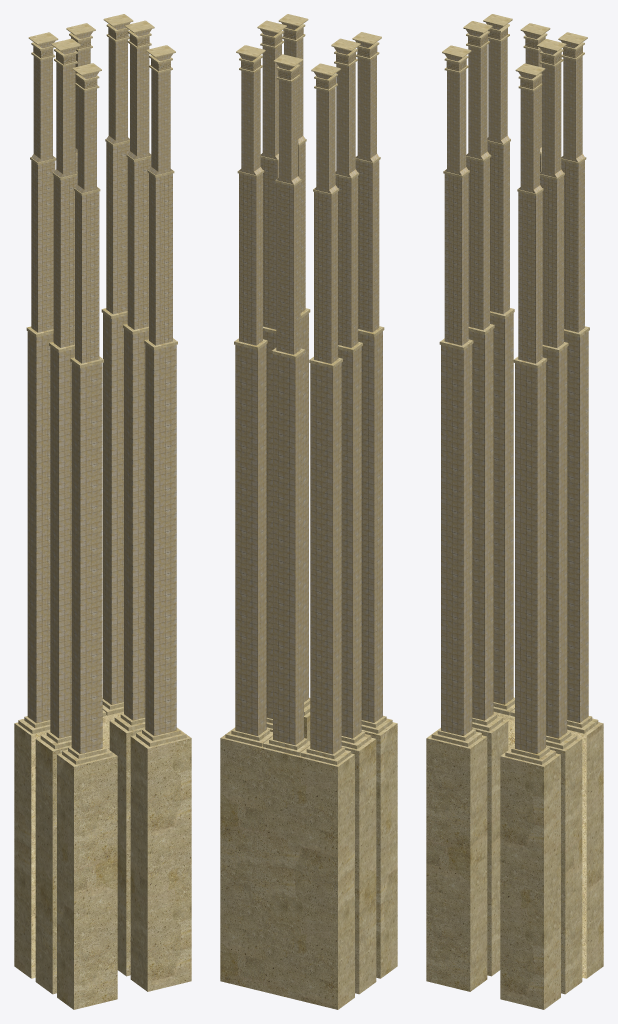
The model's file is bridge_structure_pillar_cluster.dae.
3 views of the same model, side by side, from view 1: azimuth 30°, elevation 25°; view 2: azimuth 150°, elevation 25°; view 3: azimuth 330°, elevation 25° (orthographic).
Parts seen in each view (by area): view 1: bridge_structure_pillar_cluster; view 2: bridge_structure_pillar_cluster; view 3: bridge_structure_pillar_cluster.
Part boxes in pixels (box(x1,y1,x2,y2)): bridge_structure_pillar_cluster: box(14, 14, 191, 1009); bridge_structure_pillar_cluster: box(220, 14, 397, 1009); bridge_structure_pillar_cluster: box(426, 14, 603, 1009).
Size of the model in its own units: 38.45 by 33.66 by 293.
3 materials, 3 textured.
